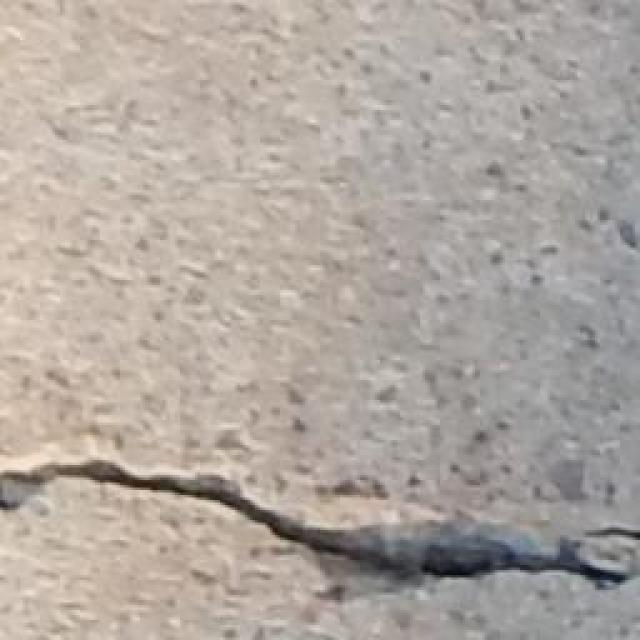concrete-crack: (0, 452, 639, 599)
